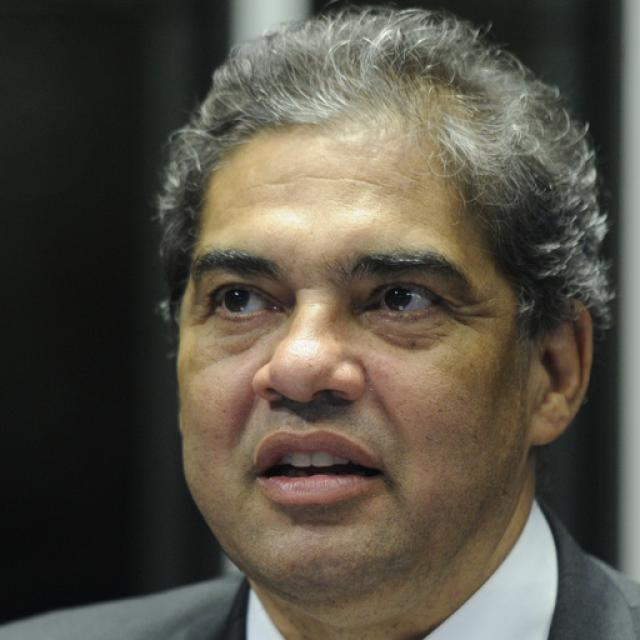Dark Circle: (357, 316, 451, 350), (210, 315, 281, 350)
Wrinkle: (231, 153, 396, 200)
